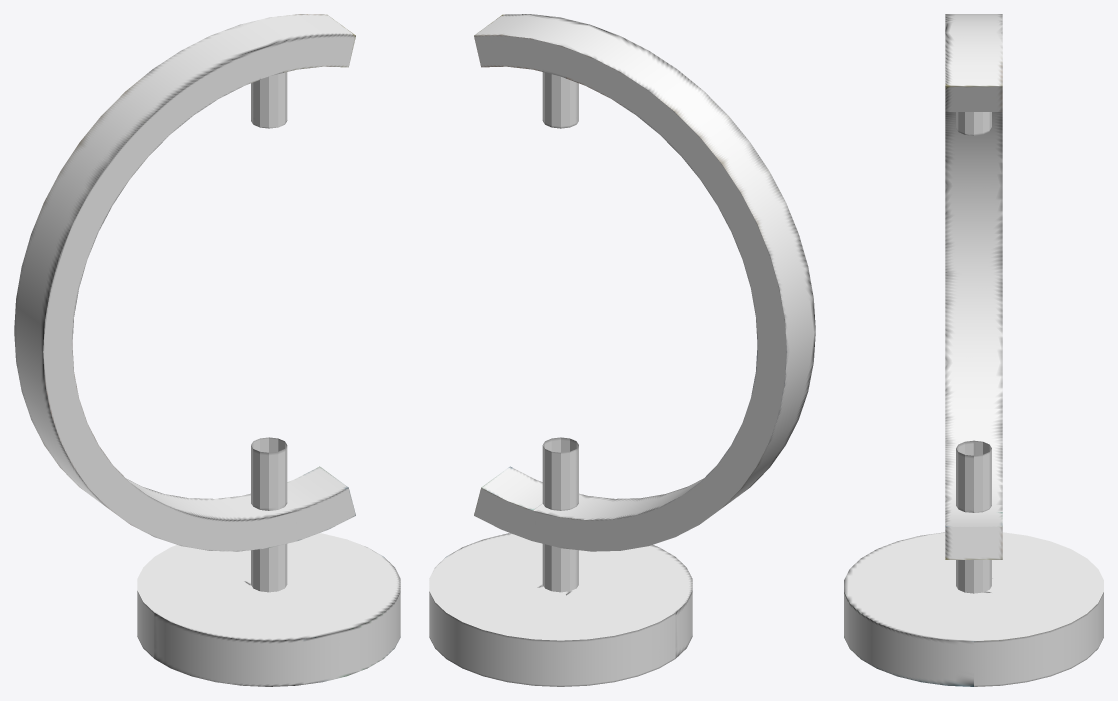
Rendered from EarthFrame.fbx.
The picture shows the model from 3 angles, left to right: view 1: azimuth 30°, elevation 25°; view 2: azimuth 150°, elevation 25°; view 3: azimuth 270°, elevation 25°; orthographic projection.
Visible parts, largest first — view 1: polySurface2; view 2: polySurface2; view 3: polySurface2.
Boxes of the visible parts, bbox=[...] form: polySurface2: bbox=[14, 14, 400, 686]; polySurface2: bbox=[429, 14, 815, 686]; polySurface2: bbox=[844, 14, 1103, 686].
Size of the model in its own units: 10.69 by 17.24 by 6.87.
